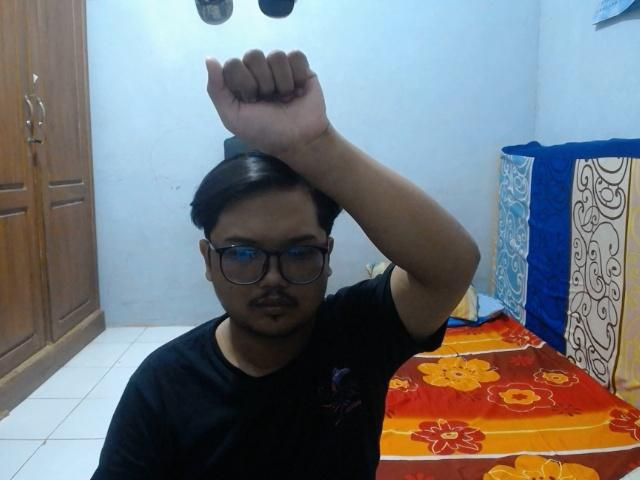Grab: (200, 41, 339, 164)
